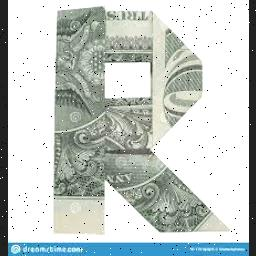r: (48, 3, 232, 237)
